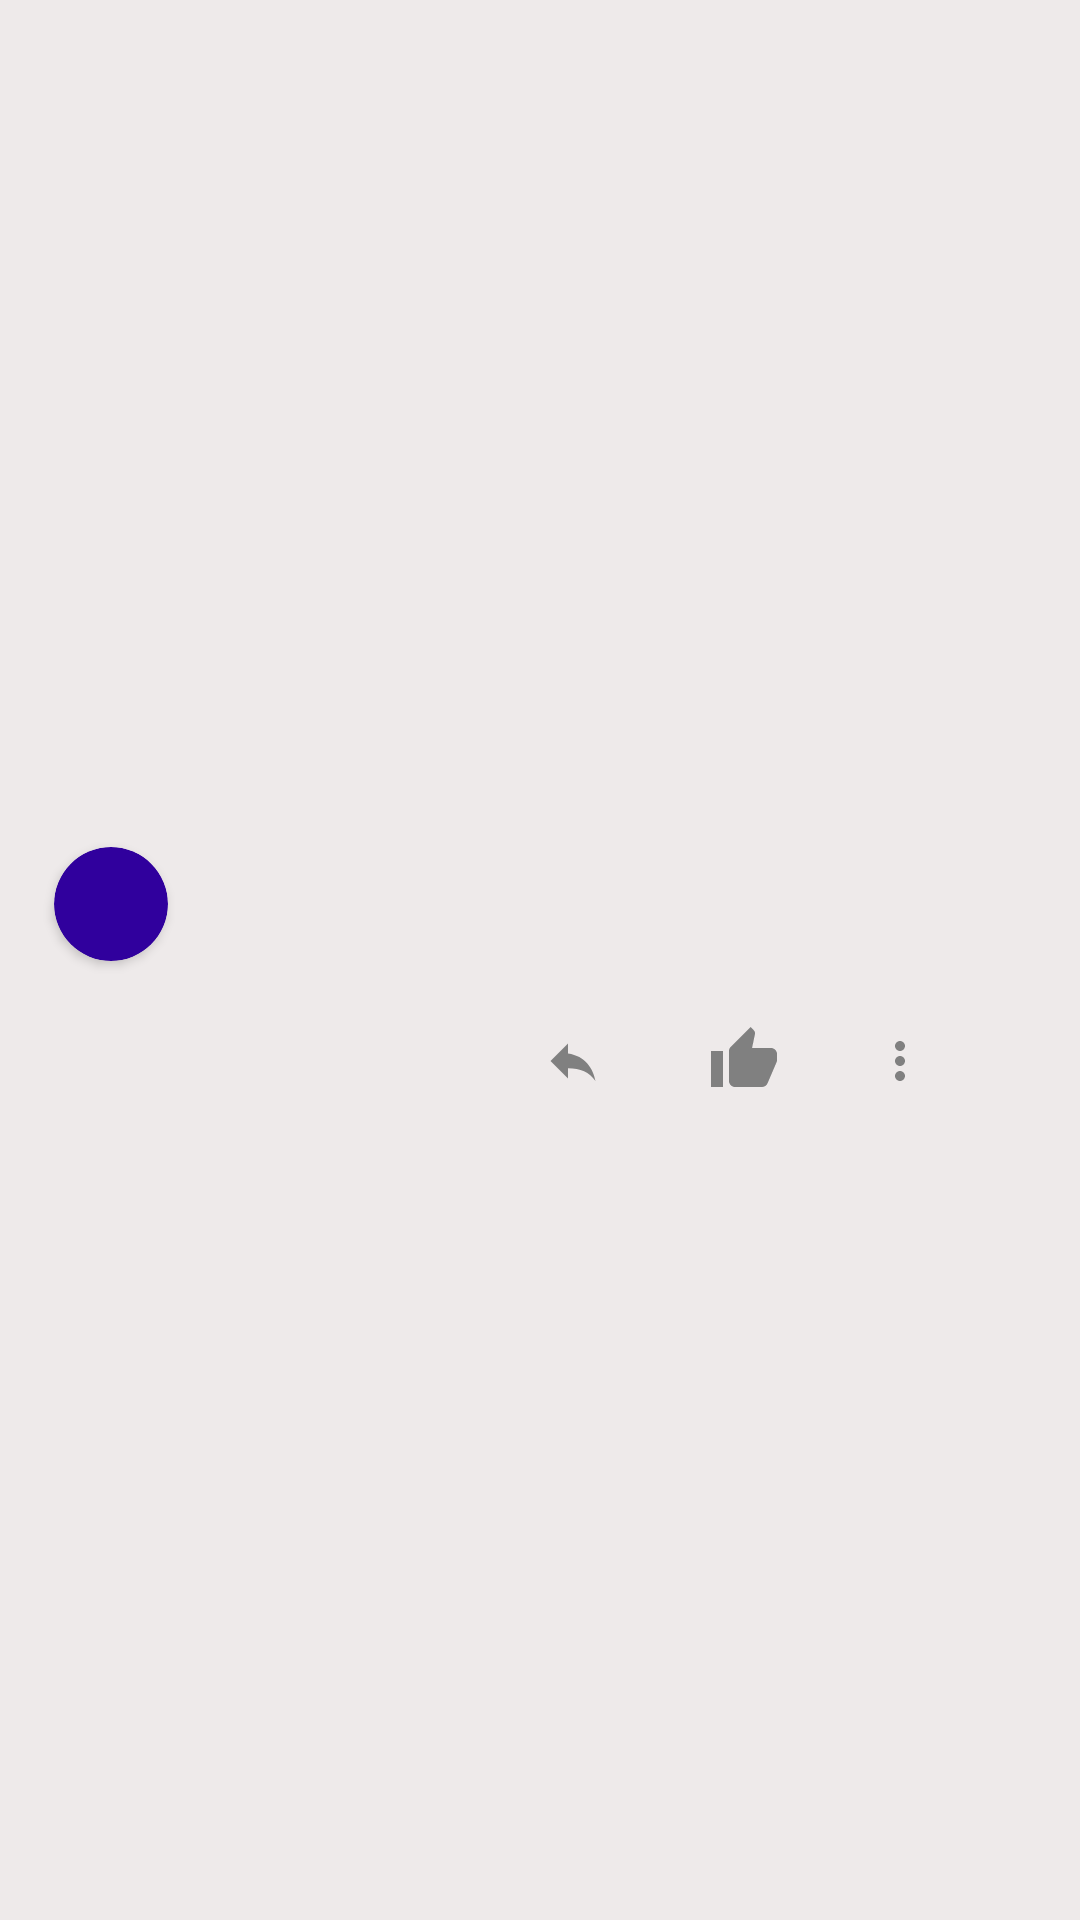

Point at icon controls on the screen. Image size 1080px×1920px, points as [x,y].
Menu Option: [900,1061]
